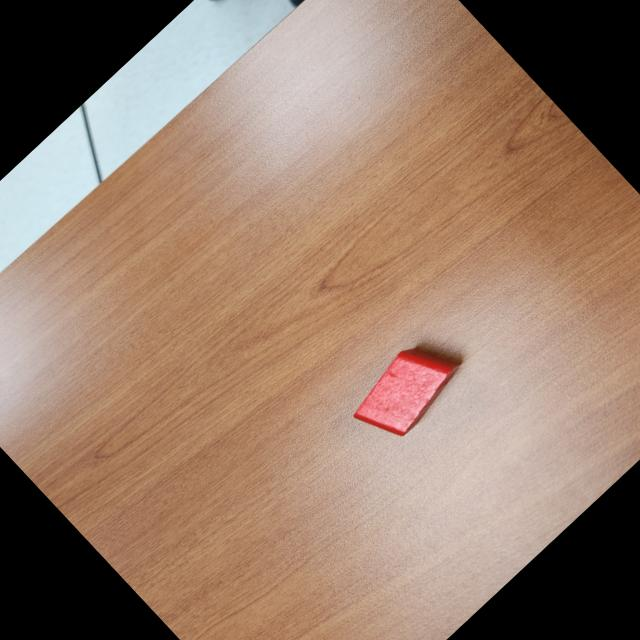red: (343, 324, 474, 452)
